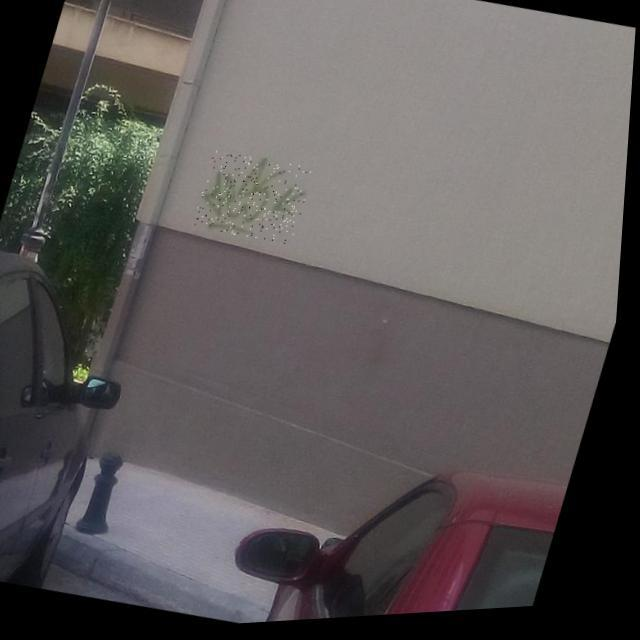-: (194, 148, 318, 254)
